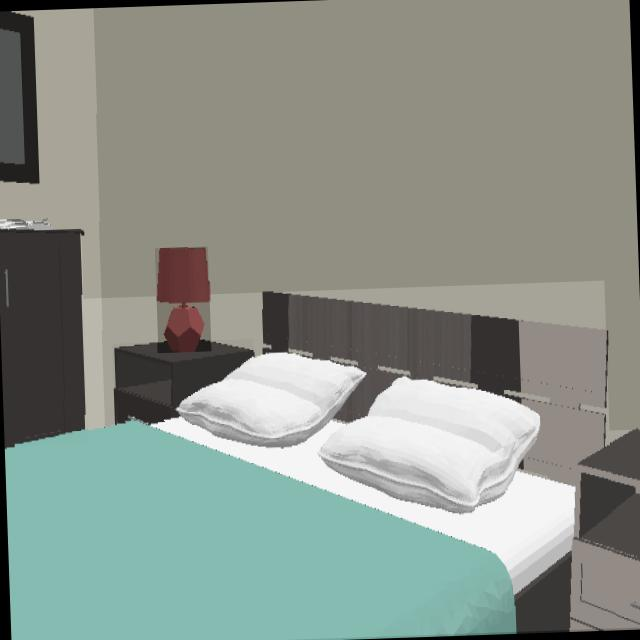bed: (4, 292, 607, 640)
cabinet: (0, 230, 85, 445)
lamp: (157, 249, 209, 352)
nighttable: (569, 429, 640, 629), (115, 341, 252, 421)
